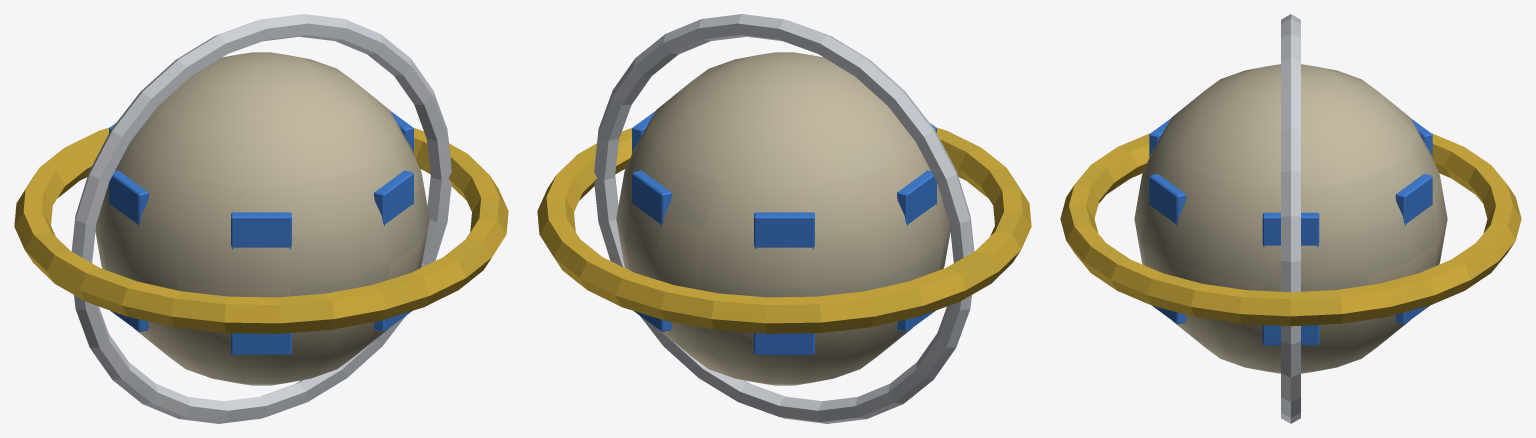
The model's file is voyageur.glb.
3 renders of one model, left to right at view 1: azimuth 30°, elevation 25°; view 2: azimuth 150°, elevation 25°; view 3: azimuth 270°, elevation 25°, orthographic. The views are drawn at different scales.
Parts seen in each view (by area): view 1: voyageur; view 2: voyageur; view 3: voyageur.
Boxes of the visible parts, box(x1,y1,x2,y2) form: voyageur: box(14, 14, 508, 423); voyageur: box(537, 14, 1031, 423); voyageur: box(1060, 14, 1521, 423).
Size of the model in its own units: 1.62 by 1.44 by 1.62.
